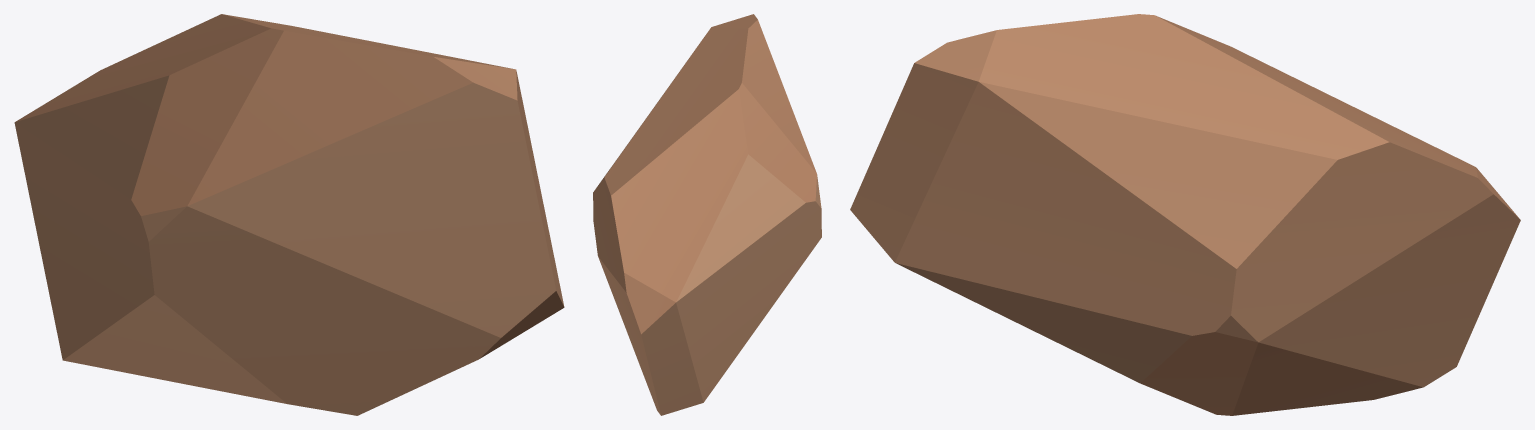
Rendered from Rock_3.fbx.
3 renders of one model, left to right at view 1: azimuth 30°, elevation 25°; view 2: azimuth 150°, elevation 25°; view 3: azimuth 270°, elevation 25°, orthographic. The views are drawn at different scales.
Visible parts, largest first — view 1: Rock.3; view 2: Rock.3; view 3: Rock.3.
Part boxes in pixels (x1,y1,x2,y2): Rock.3: (14, 14, 564, 415); Rock.3: (593, 14, 821, 415); Rock.3: (850, 14, 1520, 415).
Bounding box in the file's own units: 1282 × 2524 × 1670.
